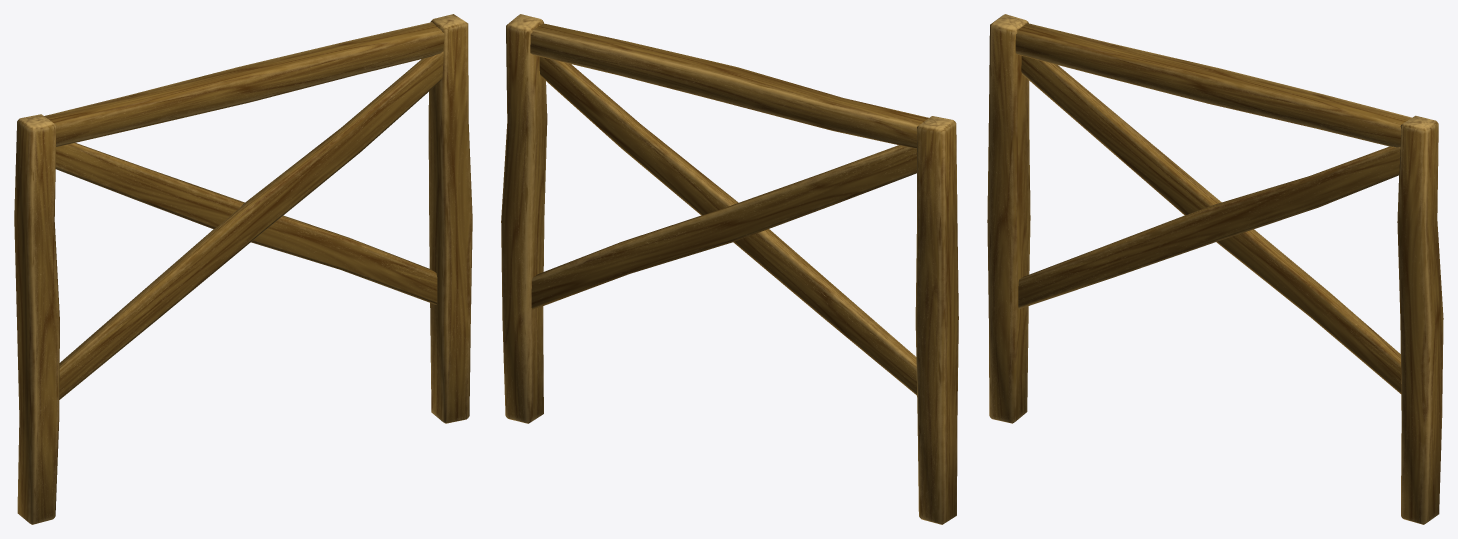
File: Fence_Var2_1.fbx
3 views of the same model, side by side, from view 1: azimuth 30°, elevation 25°; view 2: azimuth 150°, elevation 25°; view 3: azimuth 330°, elevation 25° (orthographic).
Parts seen in each view (by area): view 1: Fence_Var2_1_LOD0; view 2: Fence_Var2_1_LOD0; view 3: Fence_Var2_1_LOD0.
Boxes of the visible parts, x1,y1,x2,y2 form: Fence_Var2_1_LOD0: [14, 14, 472, 524]; Fence_Var2_1_LOD0: [501, 14, 958, 524]; Fence_Var2_1_LOD0: [987, 14, 1443, 524].
Bounding box in the file's own units: 152 × 10.99 × 130.
Materials: 1 (1 with a texture image).
